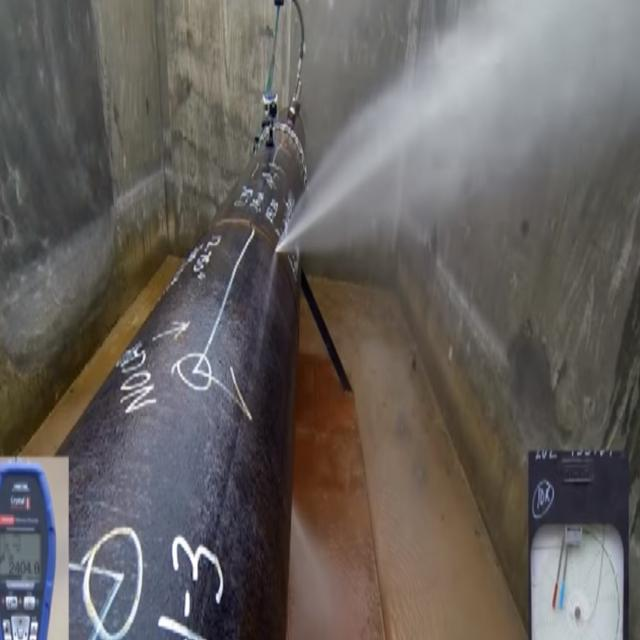leak: (275, 0, 640, 254)
